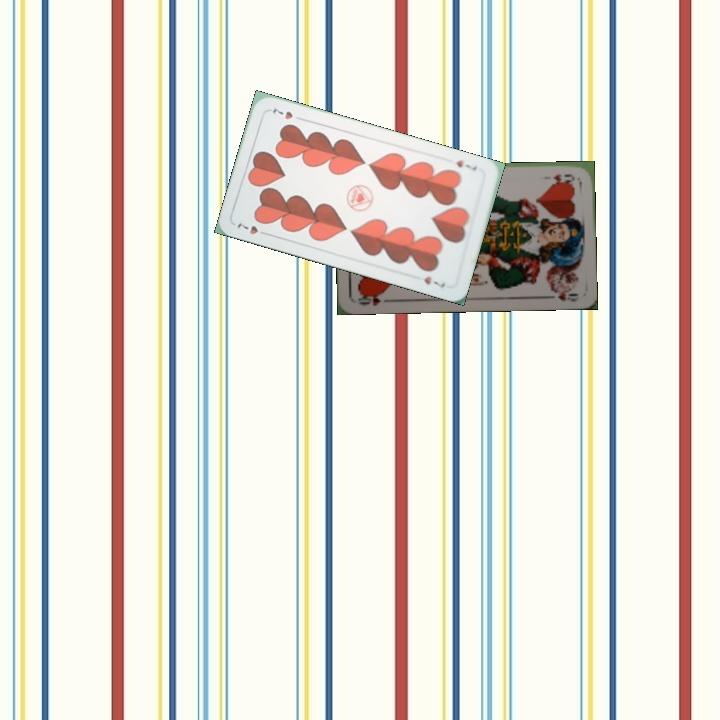H7: (233, 219, 271, 238), (452, 156, 480, 173)
HO: (354, 289, 392, 308), (540, 169, 577, 184)
